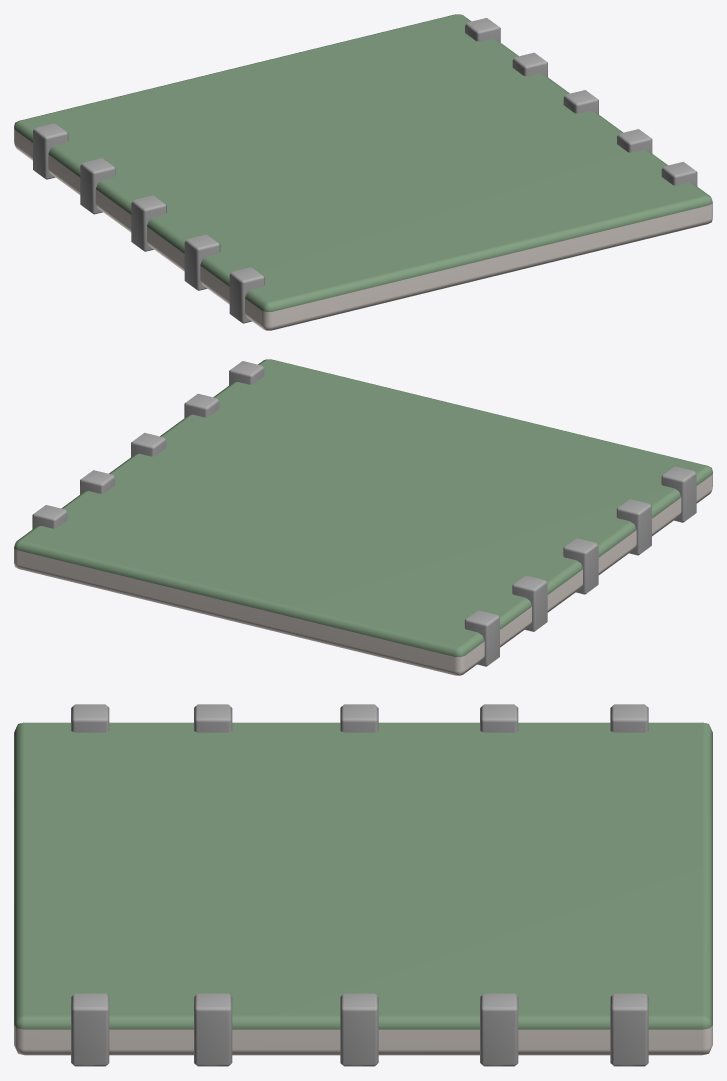
File: elevator_base.fbx
3 views of the same model, one above another, from view 1: azimuth 30°, elevation 25°; view 2: azimuth 150°, elevation 25°; view 3: azimuth 270°, elevation 25° (orthographic). The views are drawn at different scales.
Parts seen in each view (by area): view 1: pCube26; view 2: pCube26; view 3: pCube26.
Part boxes in pixels (x1,y1,x2,y2): pCube26: (14, 14, 712, 330); pCube26: (14, 359, 712, 675); pCube26: (14, 704, 712, 1066).
Size of the model in its own units: 199 by 18.24 by 193.
